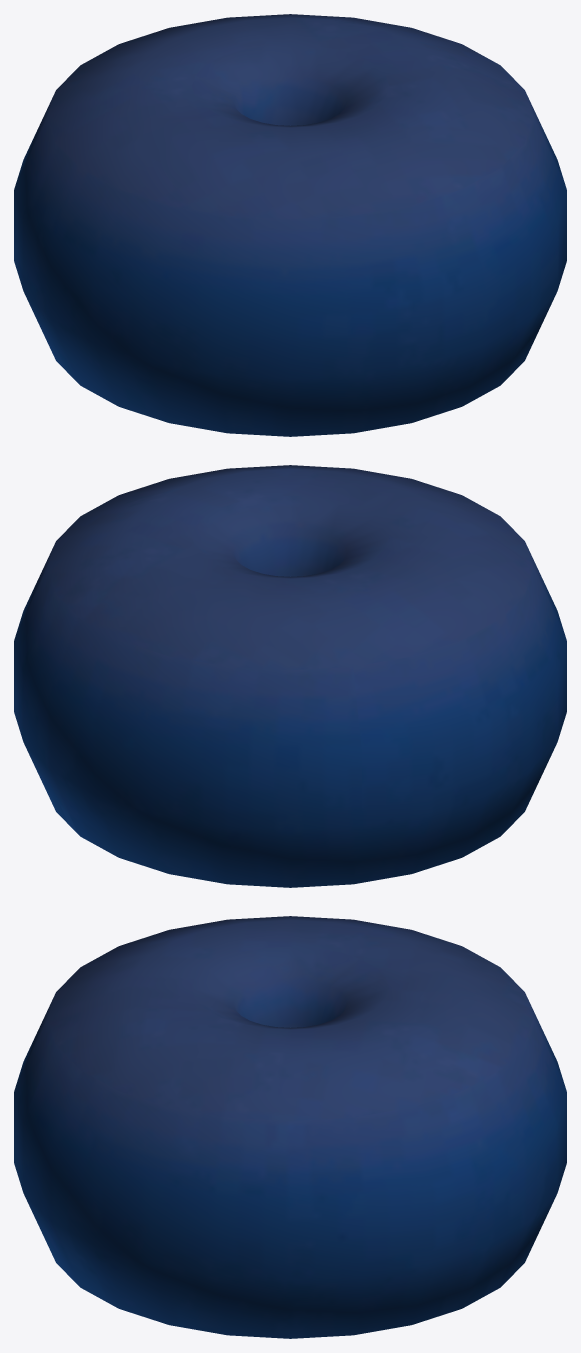
3 views of the same model, one above another, from view 1: azimuth 30°, elevation 25°; view 2: azimuth 150°, elevation 25°; view 3: azimuth 270°, elevation 25° (orthographic).
Parts seen in each view (by area): view 1: SM_Pyramid_8__1_; view 2: SM_Pyramid_8__1_; view 3: SM_Pyramid_8__1_.
Boxes of the visible parts, left/top/right/bottom form: SM_Pyramid_8__1_: left=14, top=14, right=566, bottom=436; SM_Pyramid_8__1_: left=14, top=465, right=566, bottom=887; SM_Pyramid_8__1_: left=14, top=916, right=566, bottom=1338.
Bounding box in the file's own units: 5.4 × 3 × 5.4.
